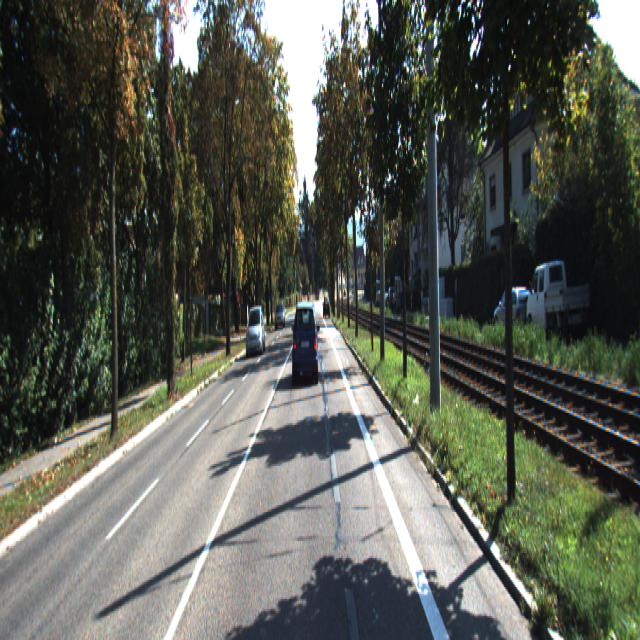Car: (525, 255, 590, 337), (292, 300, 320, 388), (494, 282, 534, 332), (246, 306, 266, 359), (274, 303, 286, 330), (637, 233, 639, 352)
